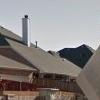Chimney: (19, 11, 37, 45)
